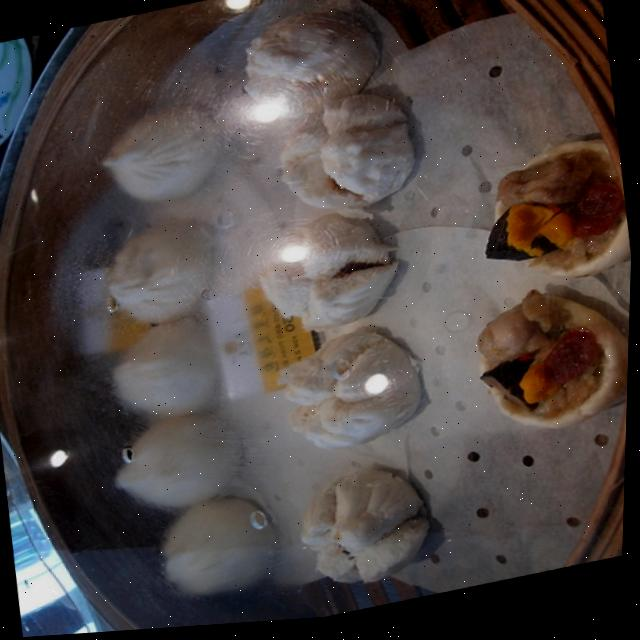带馅早点: (202, 0, 493, 627)
